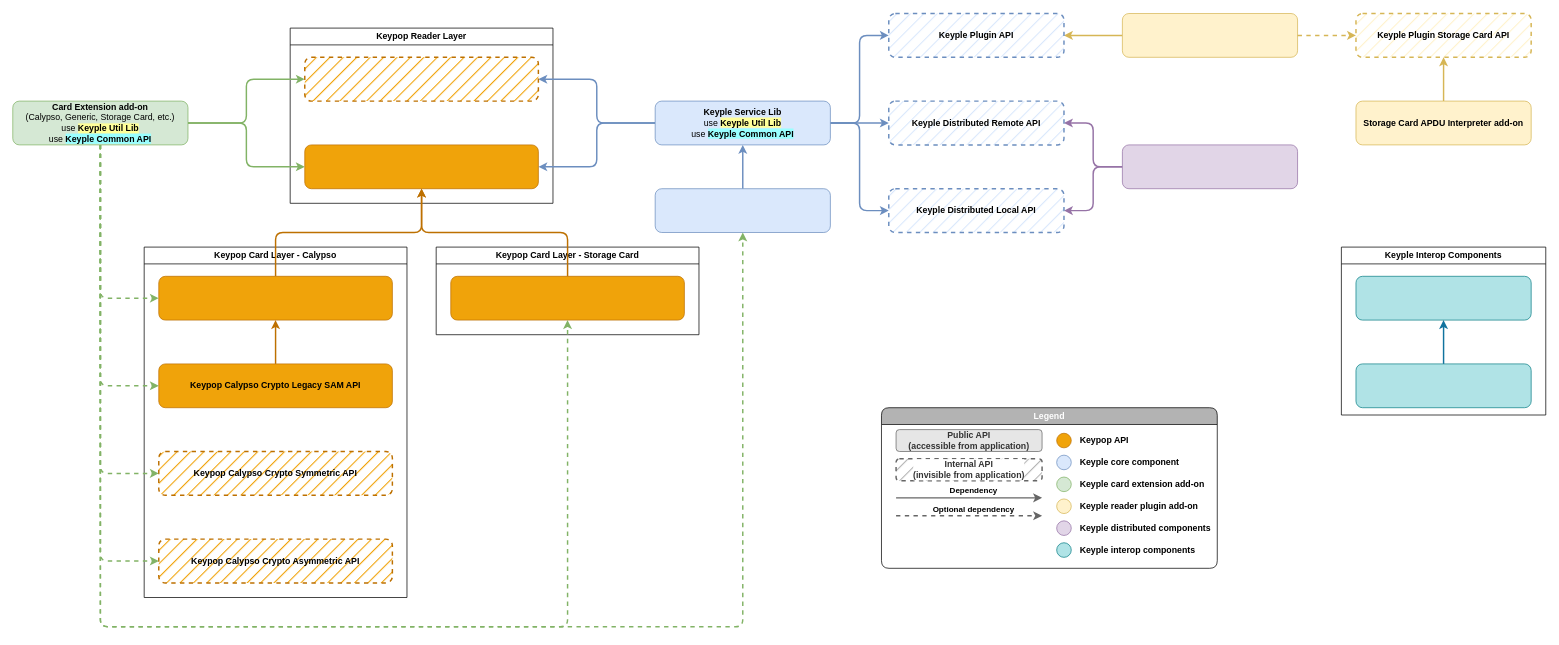
Some shapes in this 1559 by 645 pixel diagram are drawn without their labels. The shapes that lost their labels are listed below. From the top down, each one's box as (x1, y1, x2, y2) in pixels, then its label:
(1122, 13, 1298, 57): Reader Plugin add-on (PC/SC, etc.) use Keyple Util Lib use Keyple Common API
(304, 56, 539, 101): Keypop Card API
(304, 144, 538, 189): Keypop Reader API
(1122, 144, 1298, 189): Distributed Solution add-on use Keyple Util Lib use Keyple Common API
(654, 188, 830, 233): Keyple Service Resource Lib use Keyple Util Lib
(158, 276, 392, 320): Keypop Calypso Card API
(450, 276, 684, 320): Keypop Storage Card API
(1355, 276, 1531, 320): Keyple Interop JSON API Client Lib
(1355, 363, 1531, 408): Keyple Interop Local Reader NFC Mobile Lib
